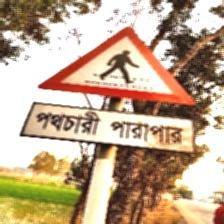Pedestrian-crossing: (24, 24, 198, 152)
